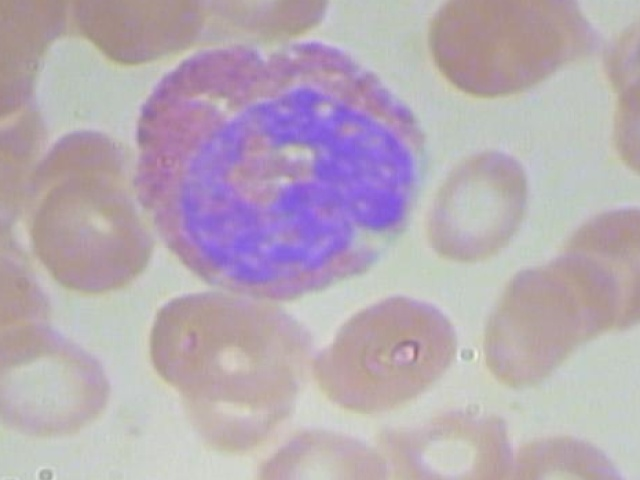RBC: (301, 288, 471, 419), (411, 0, 590, 104), (23, 168, 157, 296), (465, 261, 588, 400), (0, 315, 127, 446), (414, 145, 540, 275), (374, 397, 524, 480), (246, 424, 396, 480), (498, 428, 627, 480), (197, 0, 338, 43)
WBC: (114, 23, 448, 310)
